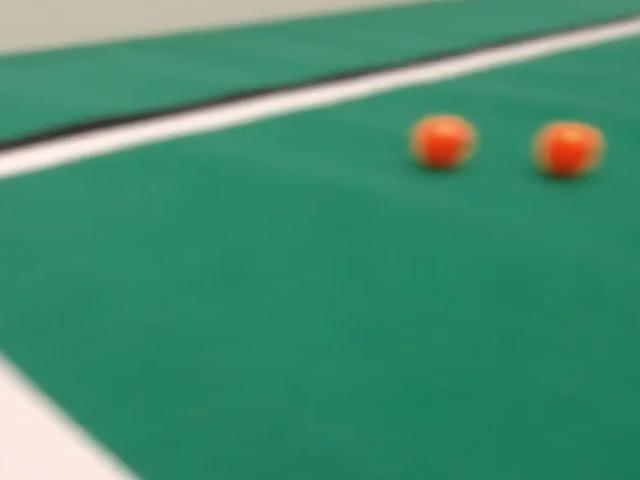Ball: (532, 121, 604, 177), (410, 115, 476, 169)
